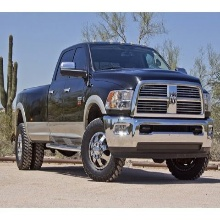no damage: (11, 42, 213, 182)
